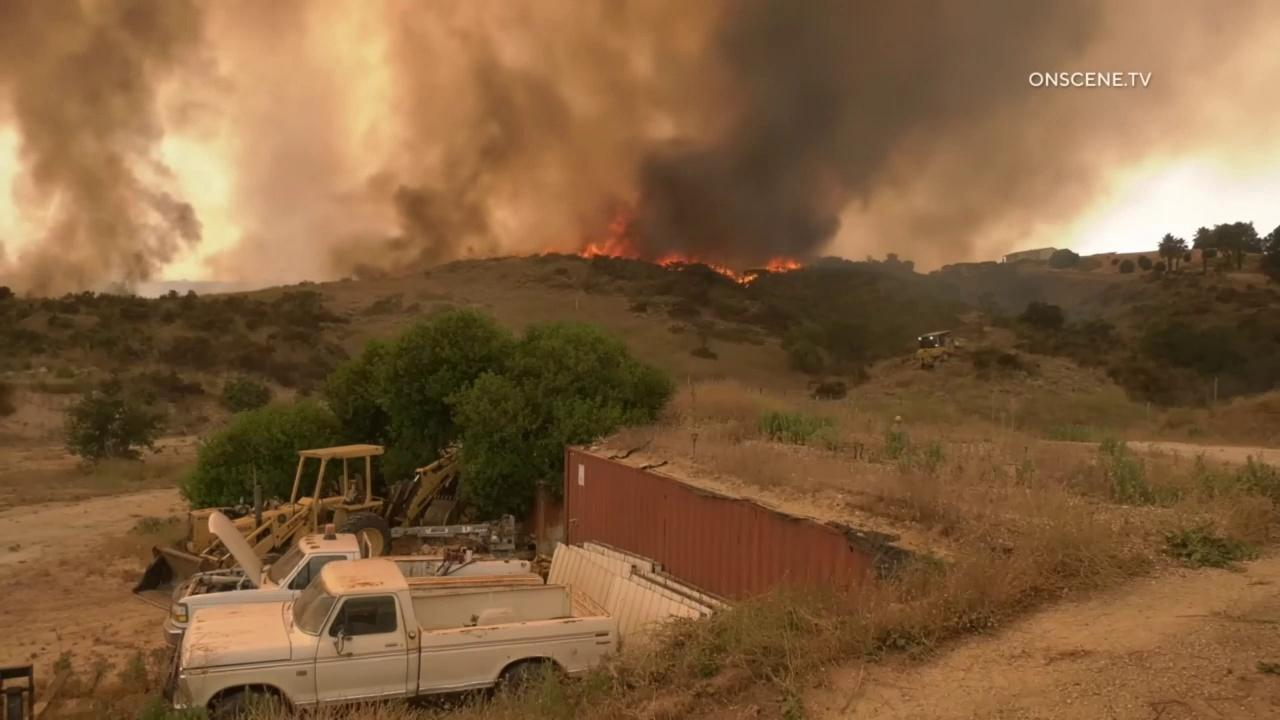fire: (578, 208, 802, 285)
smoke: (0, 0, 1280, 296)
